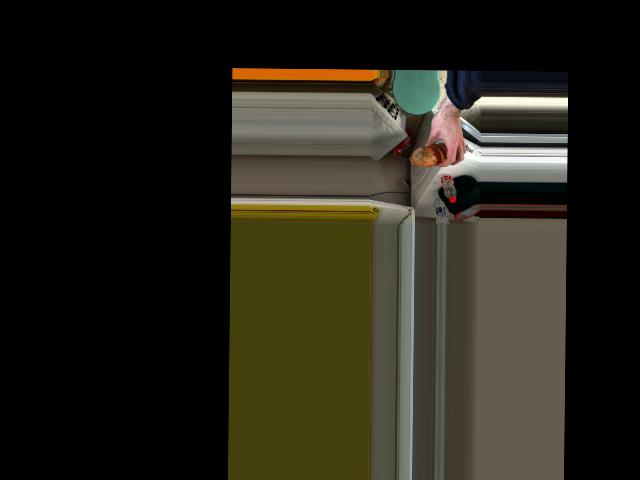sweet_potato: (419, 137, 451, 169)
